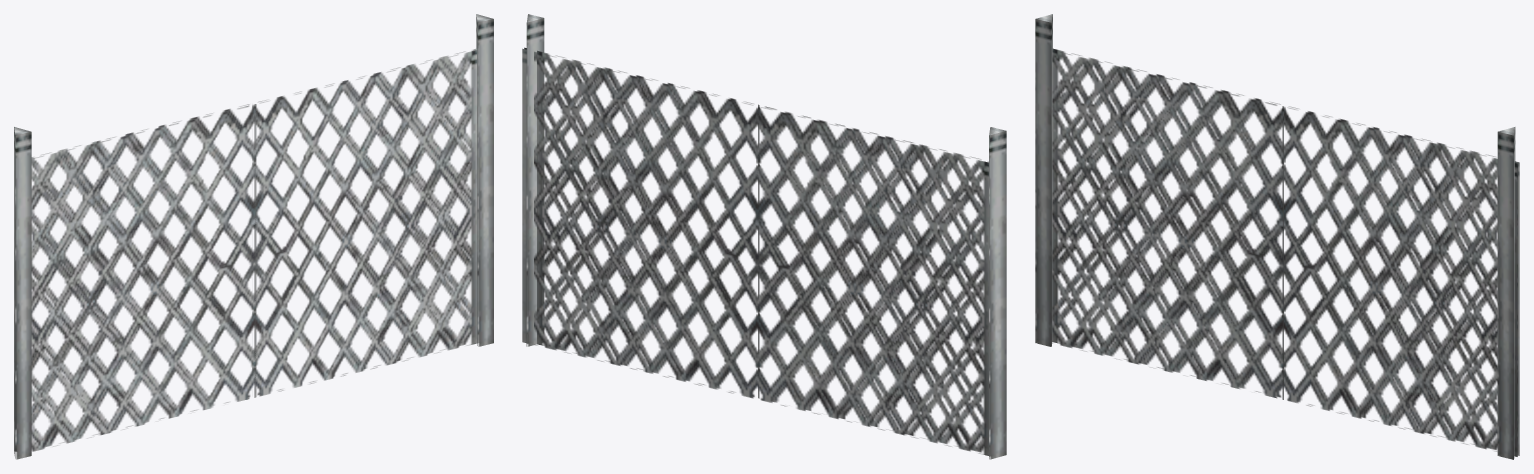
The model's file is Environment - Prop - Chain Link Fence 01 - PMWallChn2.glb.
3 renders of one model, left to right at view 1: azimuth 30°, elevation 25°; view 2: azimuth 150°, elevation 25°; view 3: azimuth 330°, elevation 25°, orthographic.
Visible parts, largest first — view 1: PMWALLCHN2; view 2: PMWALLCHN2; view 3: PMWALLCHN2.
Boxes of the visible parts, x1,y1,x2,y2 form: PMWALLCHN2: (14, 14, 493, 459); PMWALLCHN2: (522, 14, 1006, 459); PMWALLCHN2: (1035, 14, 1519, 459).
Size of the model in its own units: 28.35 by 18.36 by 0.9621.
Materials: 1 (1 with a texture image).
